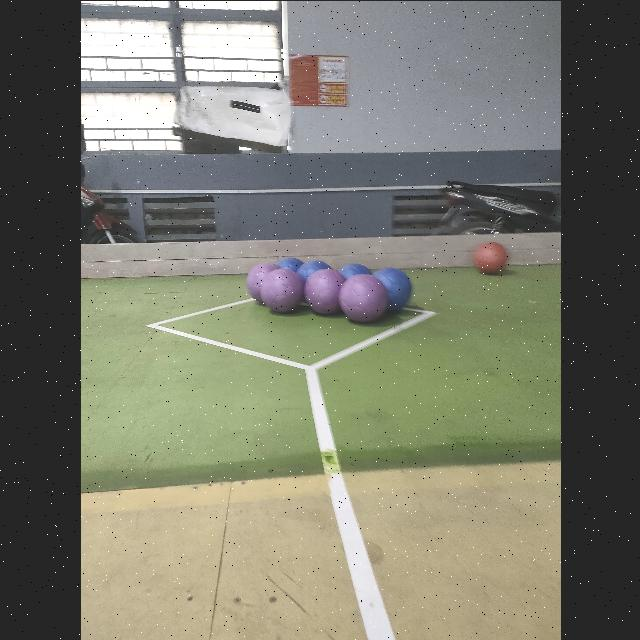B: (374, 266, 411, 310), (296, 260, 330, 280), (337, 262, 369, 278)
P: (339, 273, 387, 321), (260, 267, 304, 311), (303, 266, 341, 316), (245, 258, 283, 300)
R: (473, 240, 507, 272)
